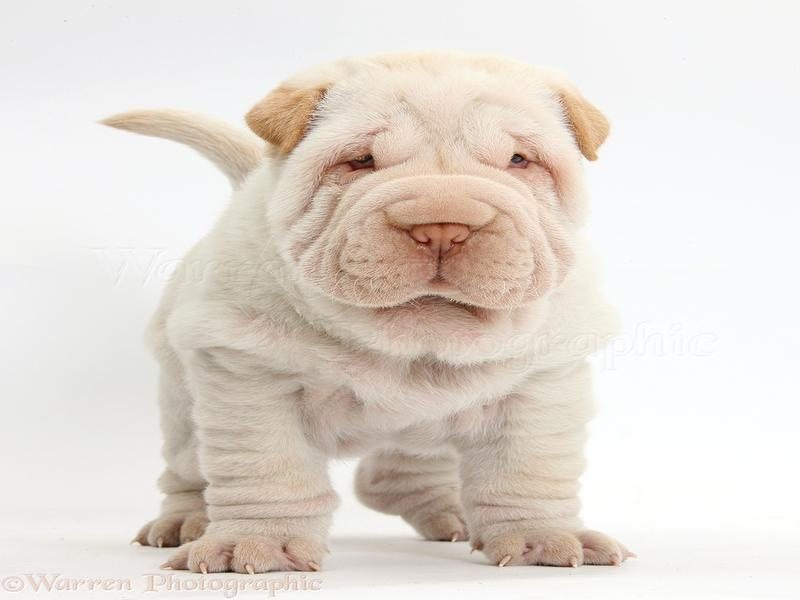dog_stand: (87, 40, 638, 577)
